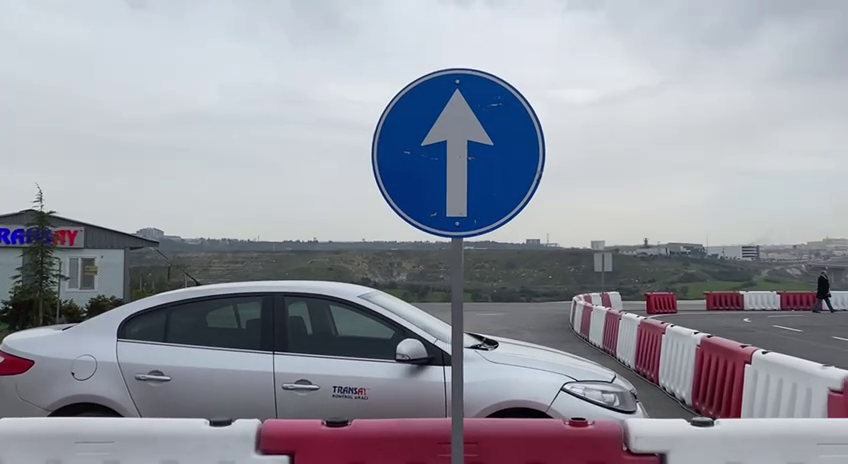forward: (365, 58, 549, 242)
